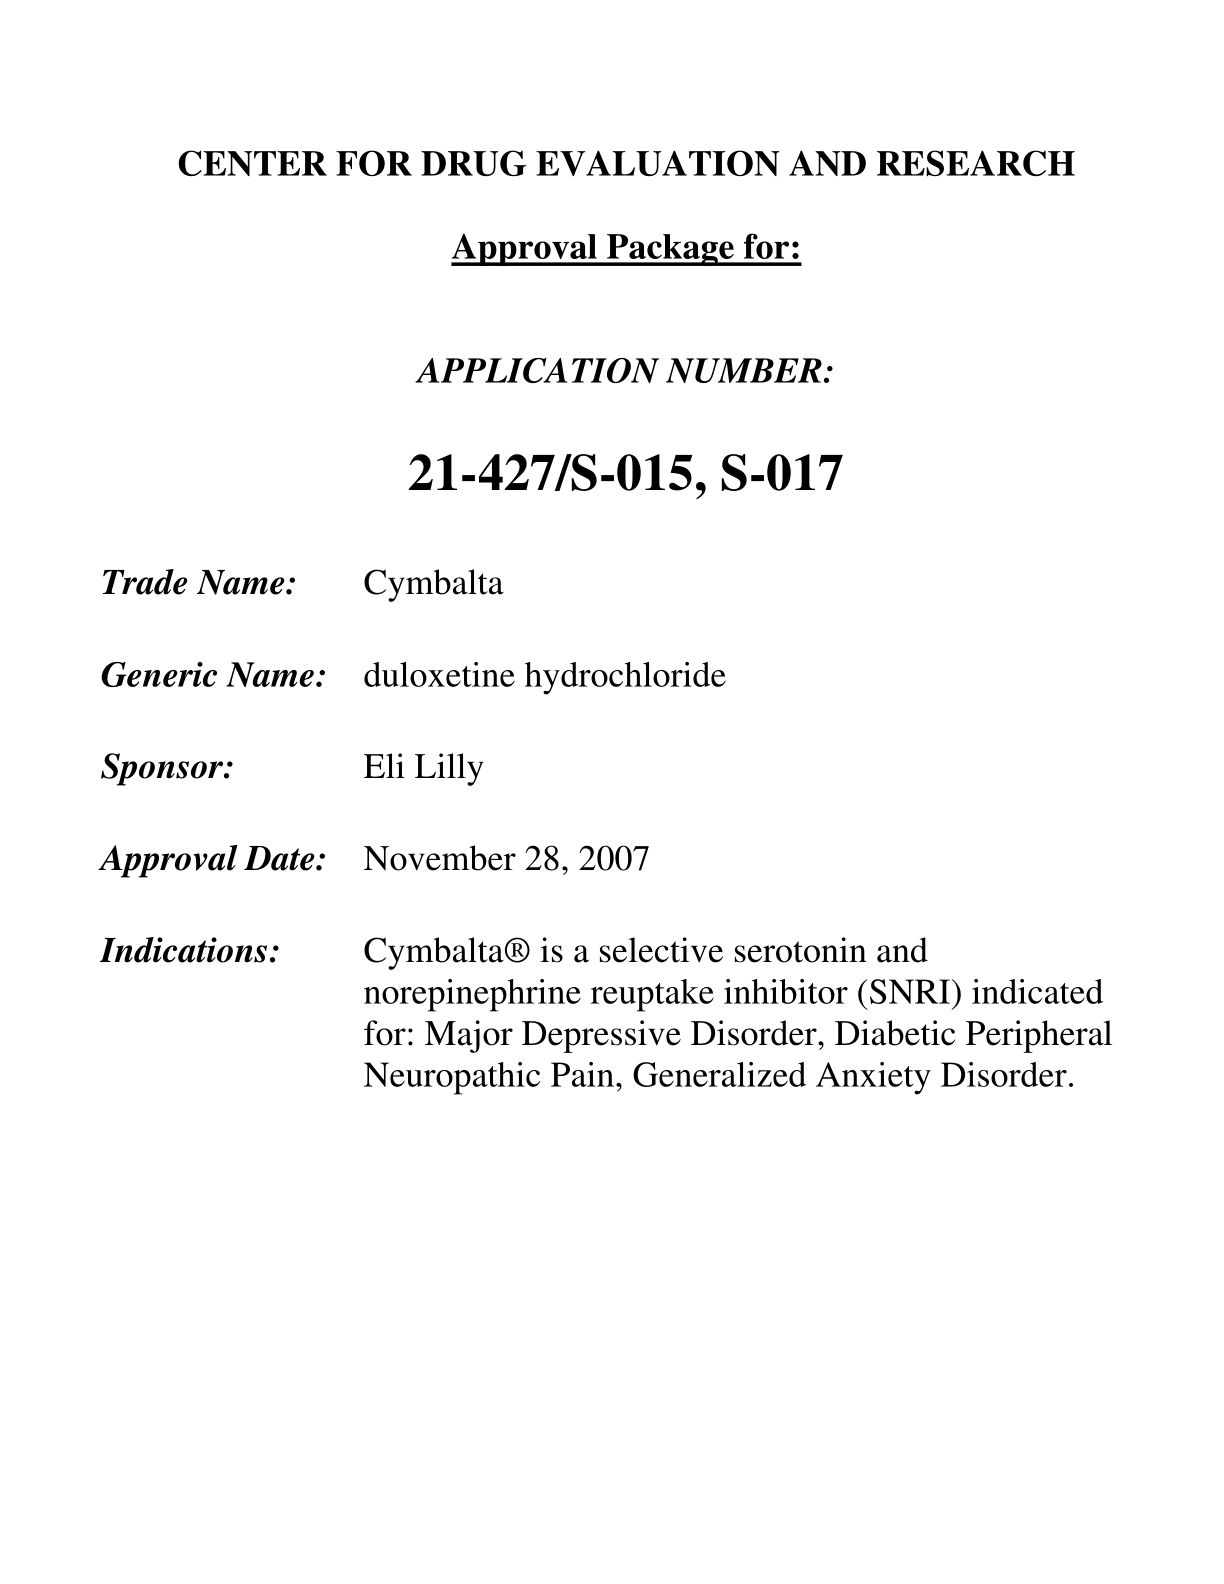nolines: (96, 562, 1113, 1093)
